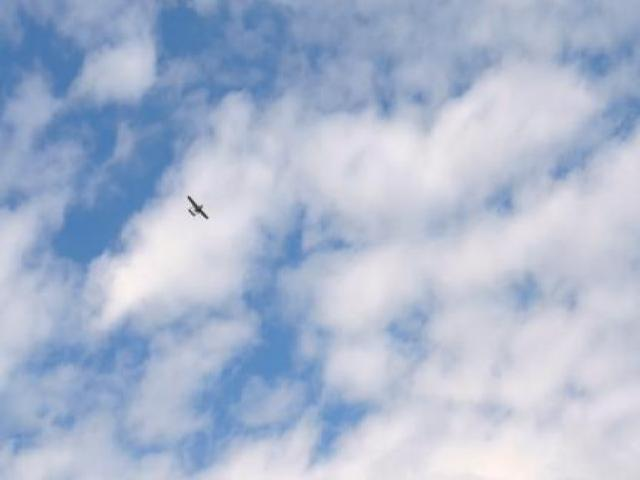uav: (185, 191, 210, 223)
